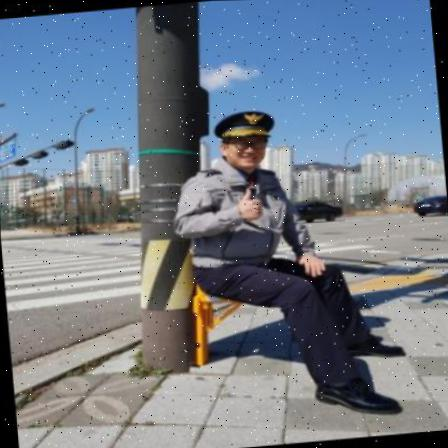silver: (176, 104, 406, 432)
